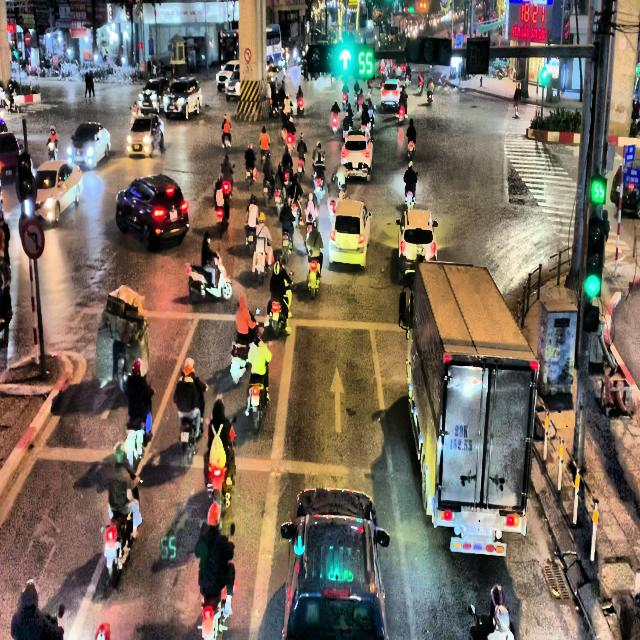lisence_plate: (449, 534, 507, 558), (447, 423, 475, 456), (169, 212, 179, 220), (352, 160, 359, 168), (343, 240, 350, 247)
